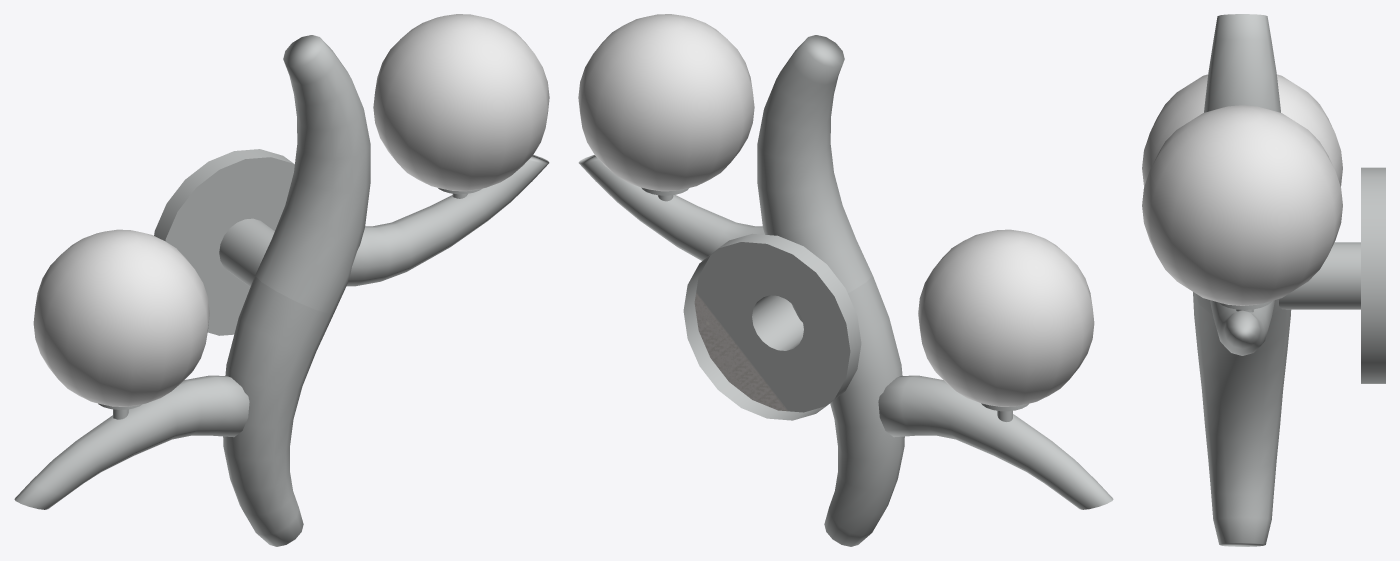
File: lamp.fbx
3 renders of one model, left to right at view 1: azimuth 30°, elevation 25°; view 2: azimuth 150°, elevation 25°; view 3: azimuth 270°, elevation 25°, orthographic. The views are drawn at different scales.
Visible parts, largest first — view 1: lamp, right_lightball, left_lightball, wallholder, lamp_branch_left, lamp_branch_right; view 2: lamp, wallholder, right_lightball, left_lightball, lamp_branch_left, lamp_branch_right; view 3: right_lightball, lamp, wallholder, left_lightball, lamp_branch_right.
Boxes of the visible parts, x1,y1,x2,y2 form: lamp: (223,35,370,546); right_lightball: (373,14,549,191); left_lightball: (33,229,209,406); wallholder: (154,149,294,335); lamp_branch_left: (14,375,249,509); lamp_branch_right: (347,155,549,286); lamp: (757,35,904,546); wallholder: (683,233,861,420); right_lightball: (578,14,754,191); left_lightball: (918,229,1094,406); lamp_branch_left: (878,375,1113,509); lamp_branch_right: (578,155,764,260); right_lightball: (1142,105,1342,305); lamp: (1193,14,1291,546); wallholder: (1279,167,1385,383); left_lightball: (1142,74,1342,186); lamp_branch_right: (1210,300,1274,355).
Bounding box in the file's own units: 41.53 × 36.95 × 14.57.
2 materials, 1 textured.
